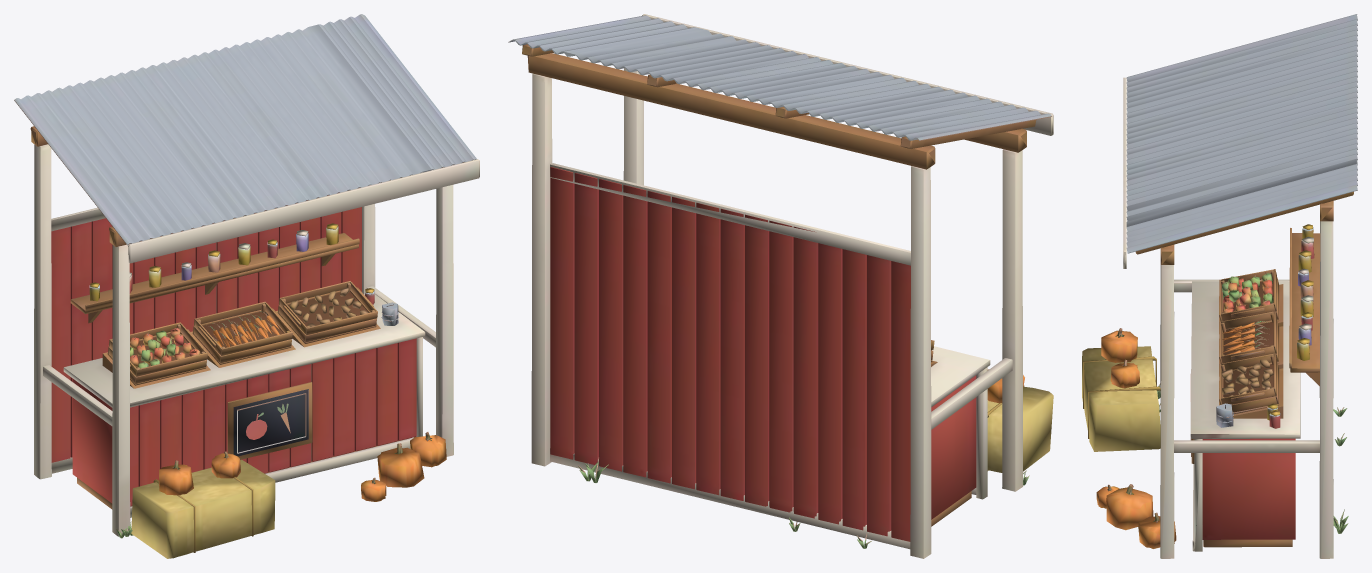
File: p_farm.glb
3 renders of one model, left to right at view 1: azimuth 30°, elevation 25°; view 2: azimuth 150°, elevation 25°; view 3: azimuth 270°, elevation 25°, orthographic. The views are drawn at different scales.
Parts seen in each view (by area): view 1: farm-stand_body; view 2: farm-stand_body; view 3: farm-stand_body.
Part boxes in pixels (x1,y1,x2,y2): farm-stand_body: (14,14,479,558); farm-stand_body: (508,14,1053,558); farm-stand_body: (1082,14,1357,558).
Bounding box in the file's own units: 2.56 × 2.58 × 1.71.
Materials: 1 (1 with a texture image).
